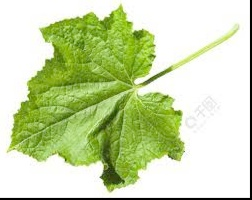cucumber_plant: (11, 12, 239, 187)
